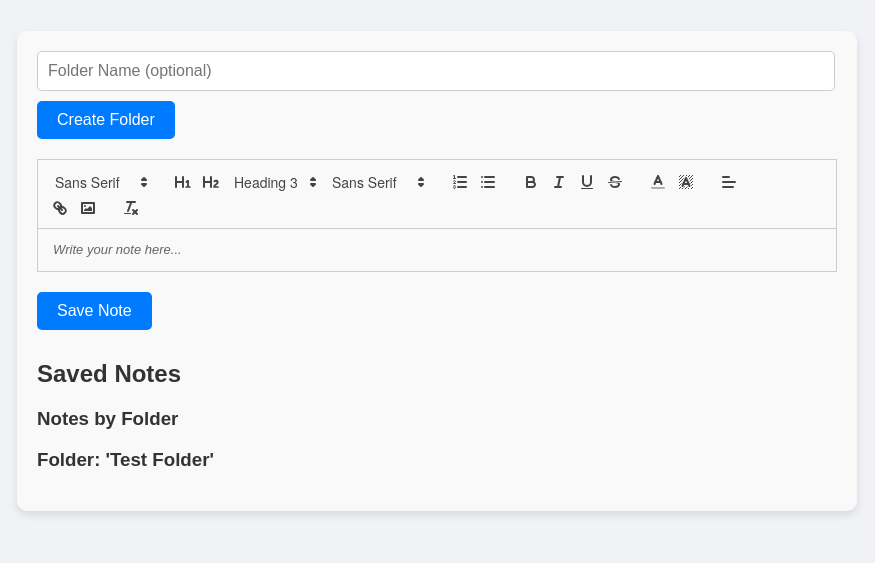
TextEditor Component › displays error when trying to create a folder with an empty name
Note: Try to create a folder with an empty name
Click the button "Create Folder" at [106, 120], box [37,101,175,139]
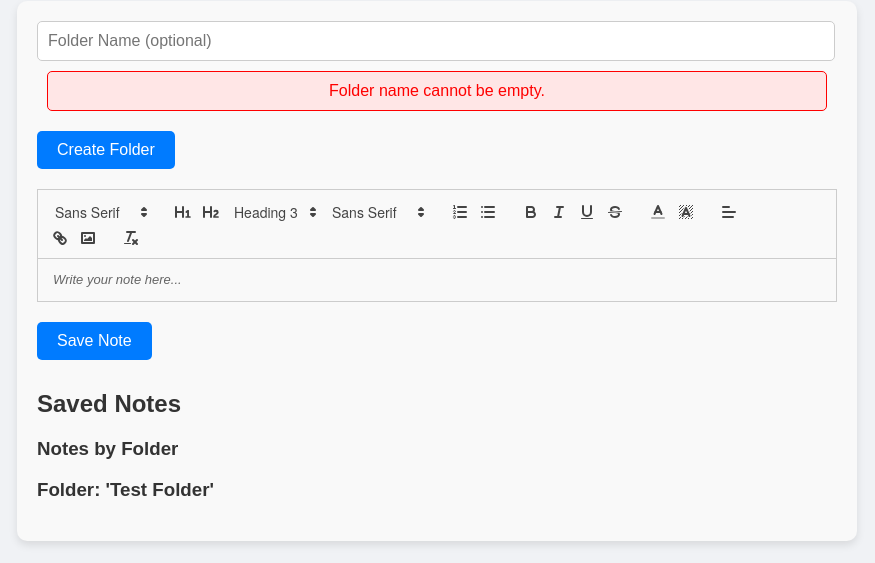
Expected: the text "Folder name cannot be empty." is shown, [47,71,827,111]
